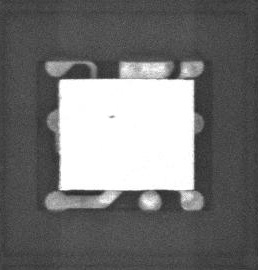DIE_INK: (102, 119, 111, 123)
